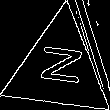N_W: (33, 45, 84, 92)
